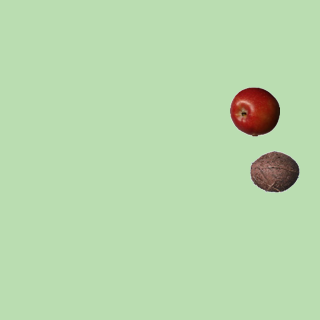Apple Braeburn: (229, 86, 279, 136)
Cocos: (249, 146, 299, 196)
